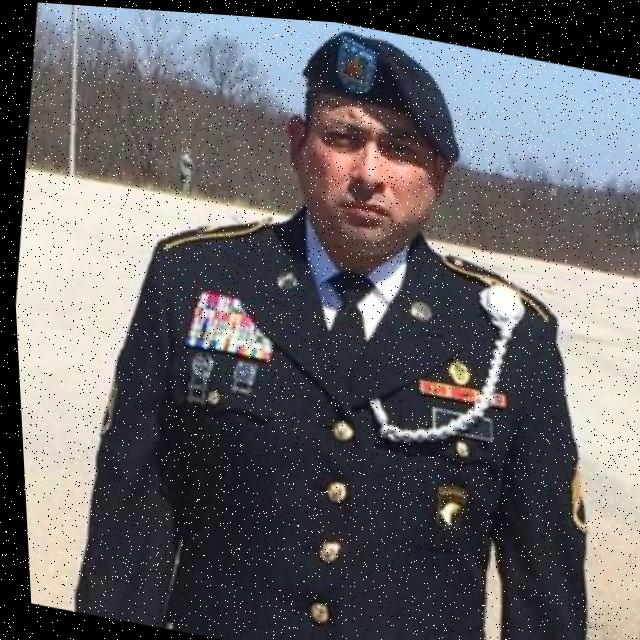illegal_helmet: (257, 13, 480, 276)
